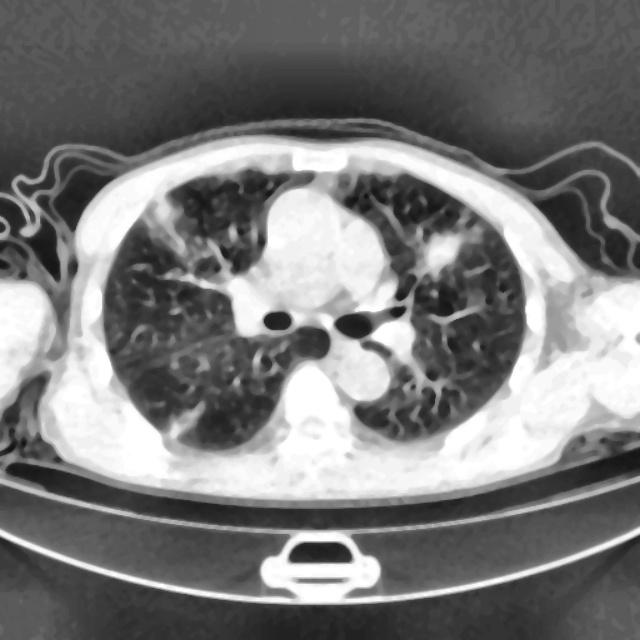covid: (0, 118, 639, 505)
